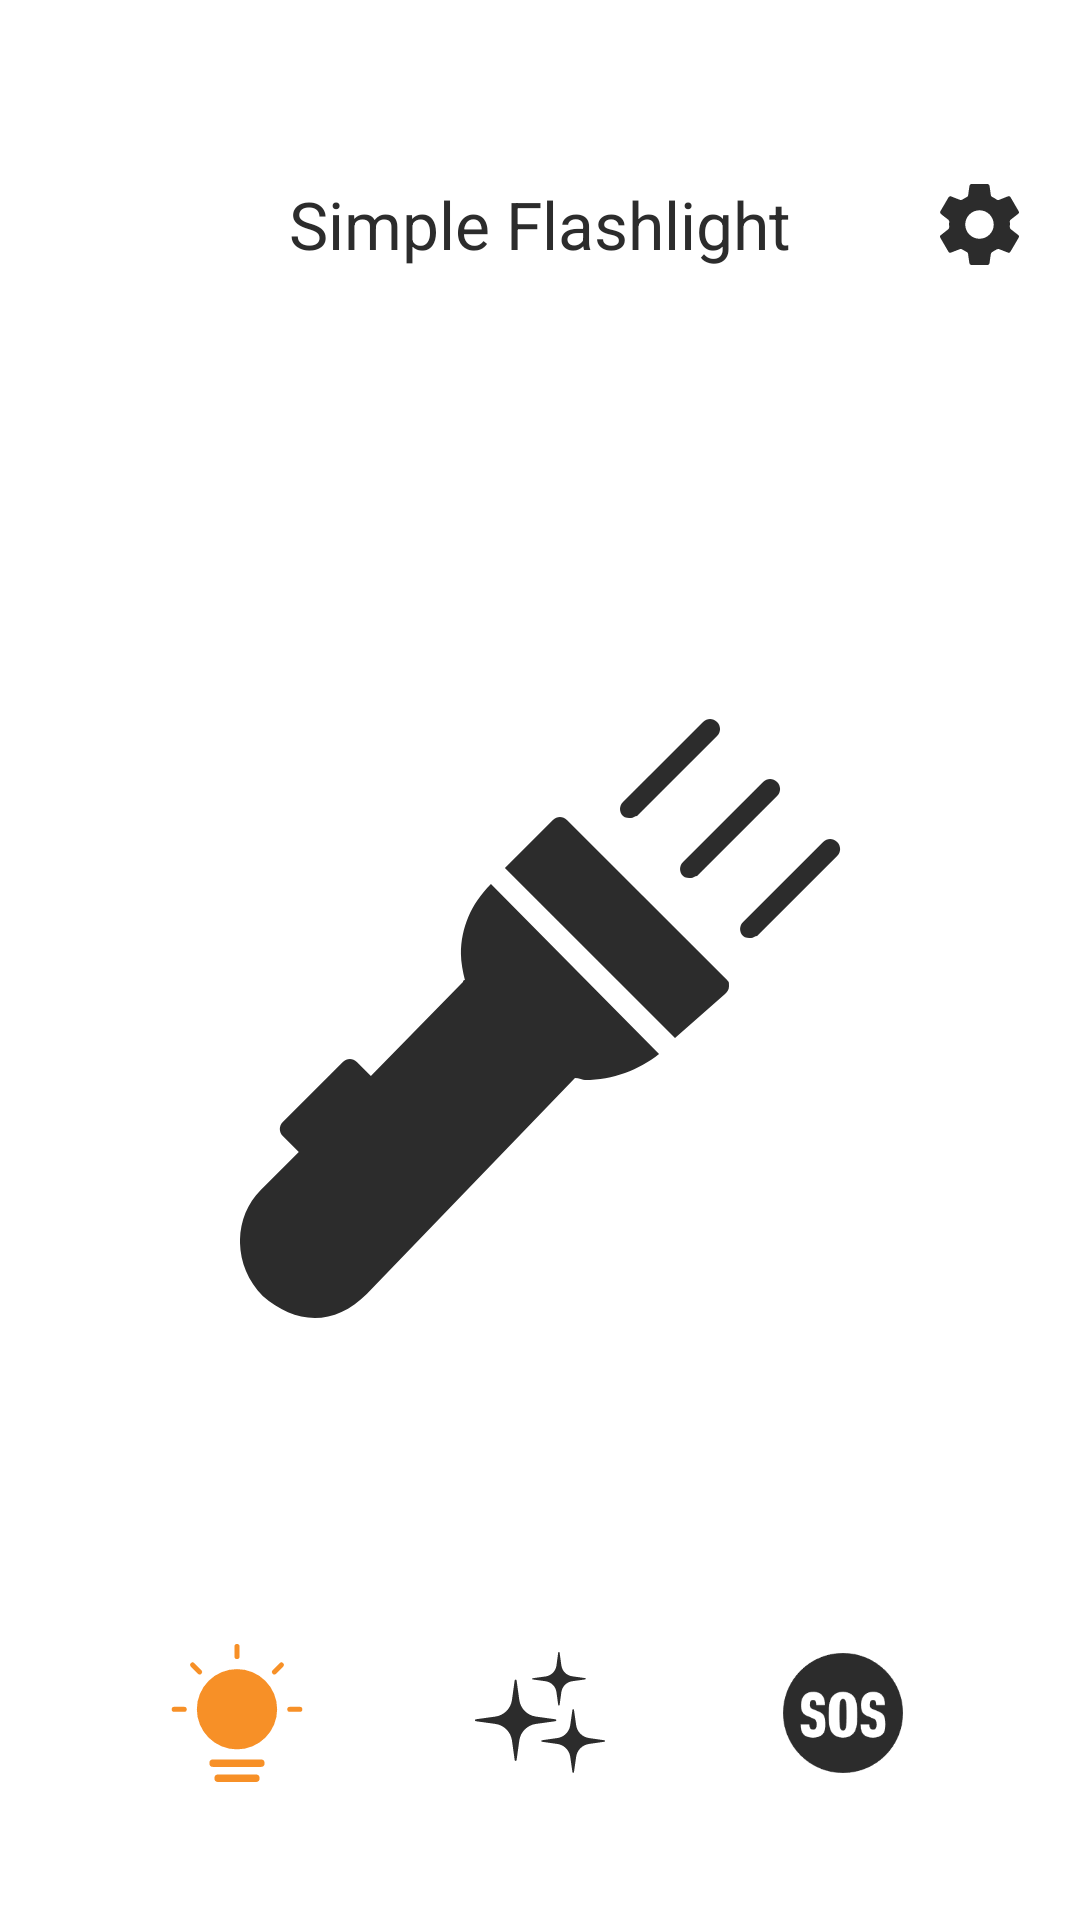

Named icons in this screenshot (1080x1920) and their centers, [x,y]:
setting: [979,224]
